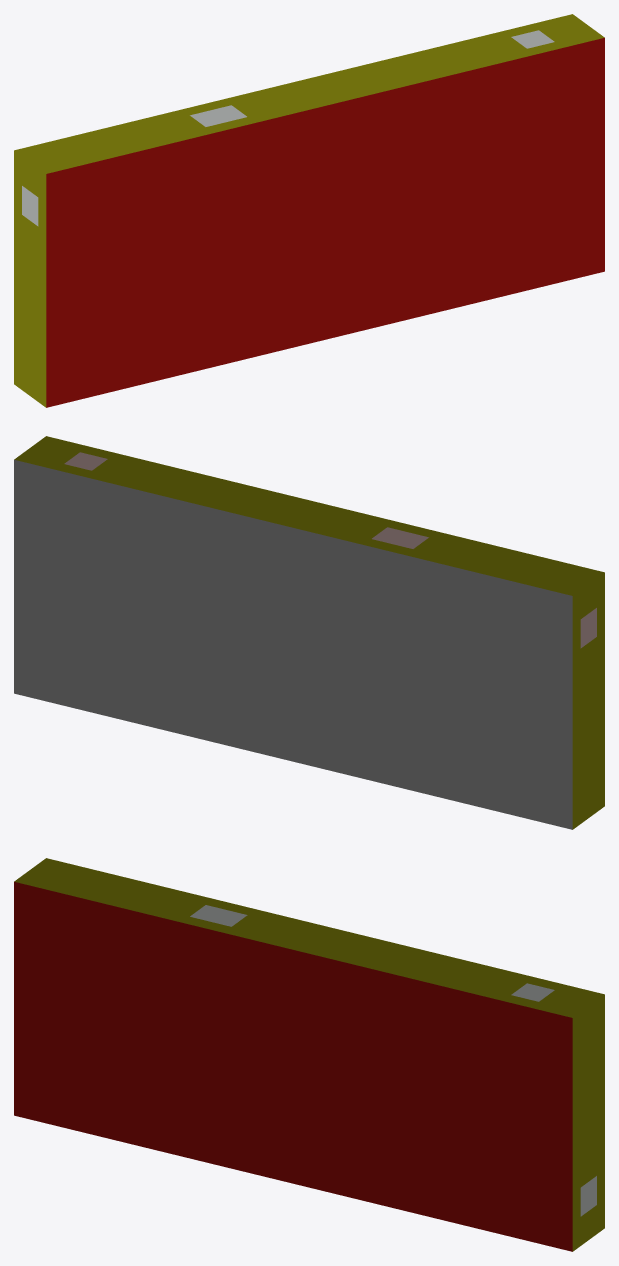
The model's file is idf.obj.
3 views of the same model, one above another, from view 1: azimuth 30°, elevation 25°; view 2: azimuth 150°, elevation 25°; view 3: azimuth 330°, elevation 25° (orthographic).
Size of the model in its own units: 30.48 by 12.19 by 3.05.
